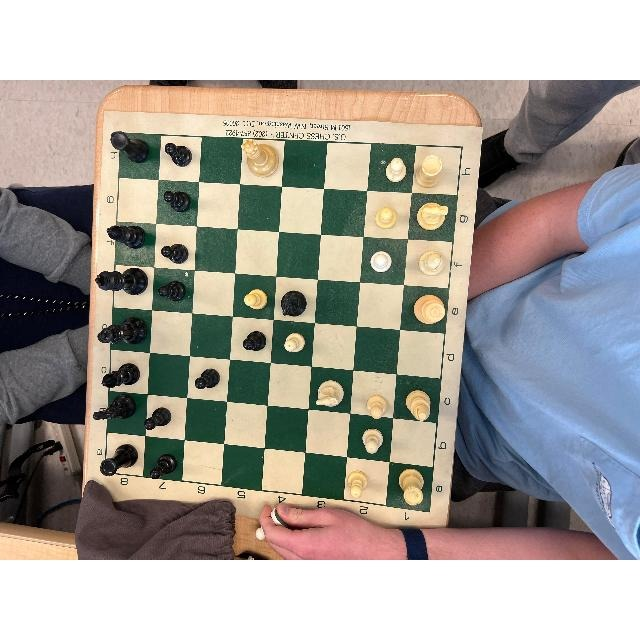black-bishop: (99, 362, 140, 389), (106, 224, 146, 250)
black-king: (96, 267, 148, 295)
black-knight: (93, 395, 137, 421), (281, 290, 307, 316)
black-pawn: (164, 142, 194, 168), (150, 454, 178, 480), (157, 280, 186, 303), (163, 189, 190, 212), (145, 407, 171, 430), (161, 243, 189, 264), (194, 368, 220, 390), (242, 331, 266, 351)
black-queen: (96, 316, 148, 346)
black-rook: (110, 131, 149, 163), (100, 444, 138, 476)
white-bishop: (405, 389, 430, 420), (419, 250, 445, 275)
white-knight: (416, 202, 448, 230), (316, 380, 344, 406)
white-pawn: (348, 470, 368, 498), (362, 428, 383, 454), (385, 157, 406, 182), (244, 288, 268, 309), (367, 395, 387, 419), (376, 207, 396, 230), (370, 251, 391, 272), (285, 333, 305, 353)
white-queen: (240, 138, 279, 178), (413, 295, 444, 325)
white-rook: (398, 468, 423, 505), (415, 155, 442, 188)
